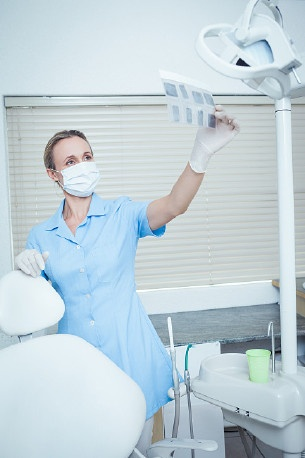Mask: (48, 145, 98, 194)
